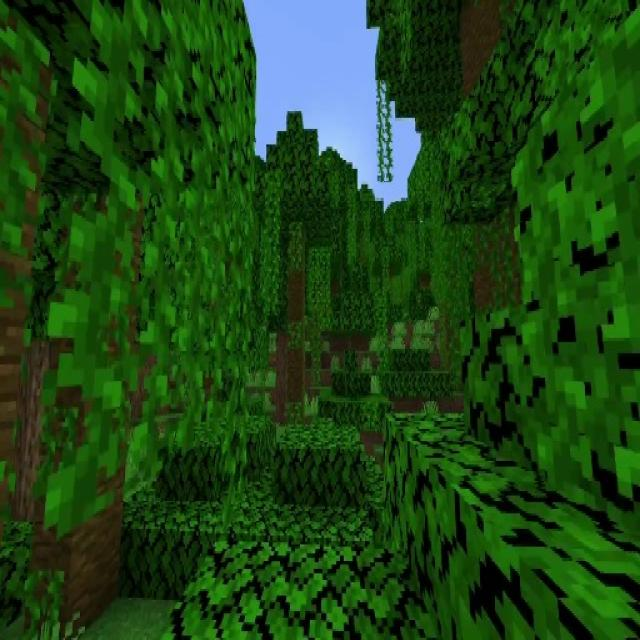jungle: (257, 114, 334, 430)
jungle_log: (34, 492, 122, 625), (286, 224, 306, 428)
